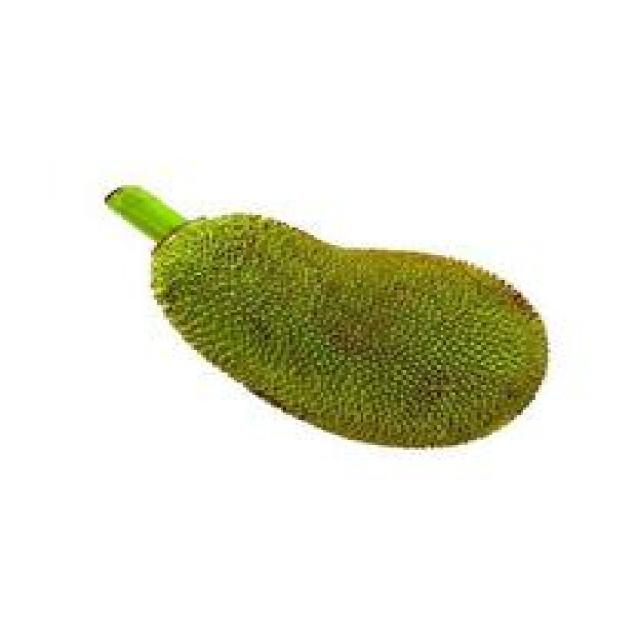Fruit: (154, 220, 566, 472)
